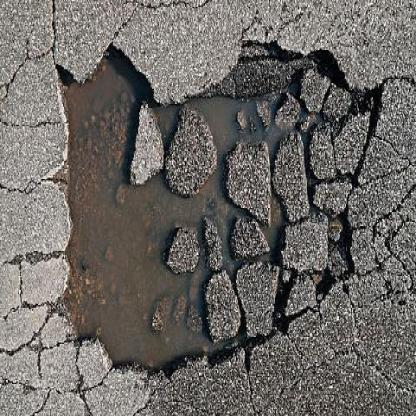pothole: (53, 36, 393, 385)
